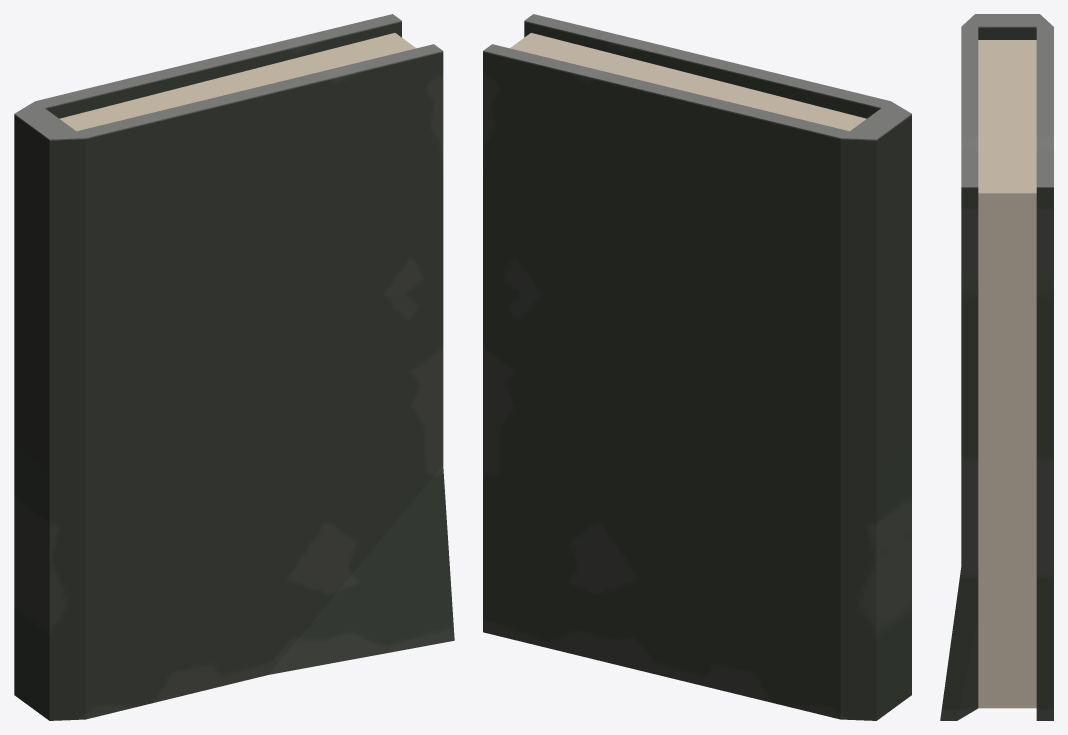
Rendered from Notepad_01_SM.FBX.
The picture shows the model from 3 angles, left to right: view 1: azimuth 30°, elevation 25°; view 2: azimuth 150°, elevation 25°; view 3: azimuth 270°, elevation 25°; orthographic projection. The views are drawn at different scales.
Parts seen in each view (by area): view 1: Notepad_01_SM; view 2: Notepad_01_SM; view 3: Notepad_01_SM.
Boxes of the visible parts, bbox=[...] form: Notepad_01_SM: bbox=[14, 14, 454, 720]; Notepad_01_SM: bbox=[483, 14, 911, 720]; Notepad_01_SM: bbox=[940, 14, 1053, 720].
Size of what is drawn, in the model's own units: 8.53 by 2.37 by 12.27.
